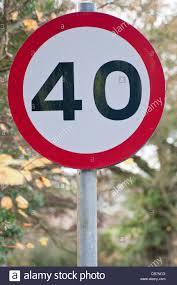Speed_limit_40km: (6, 12, 165, 170)
